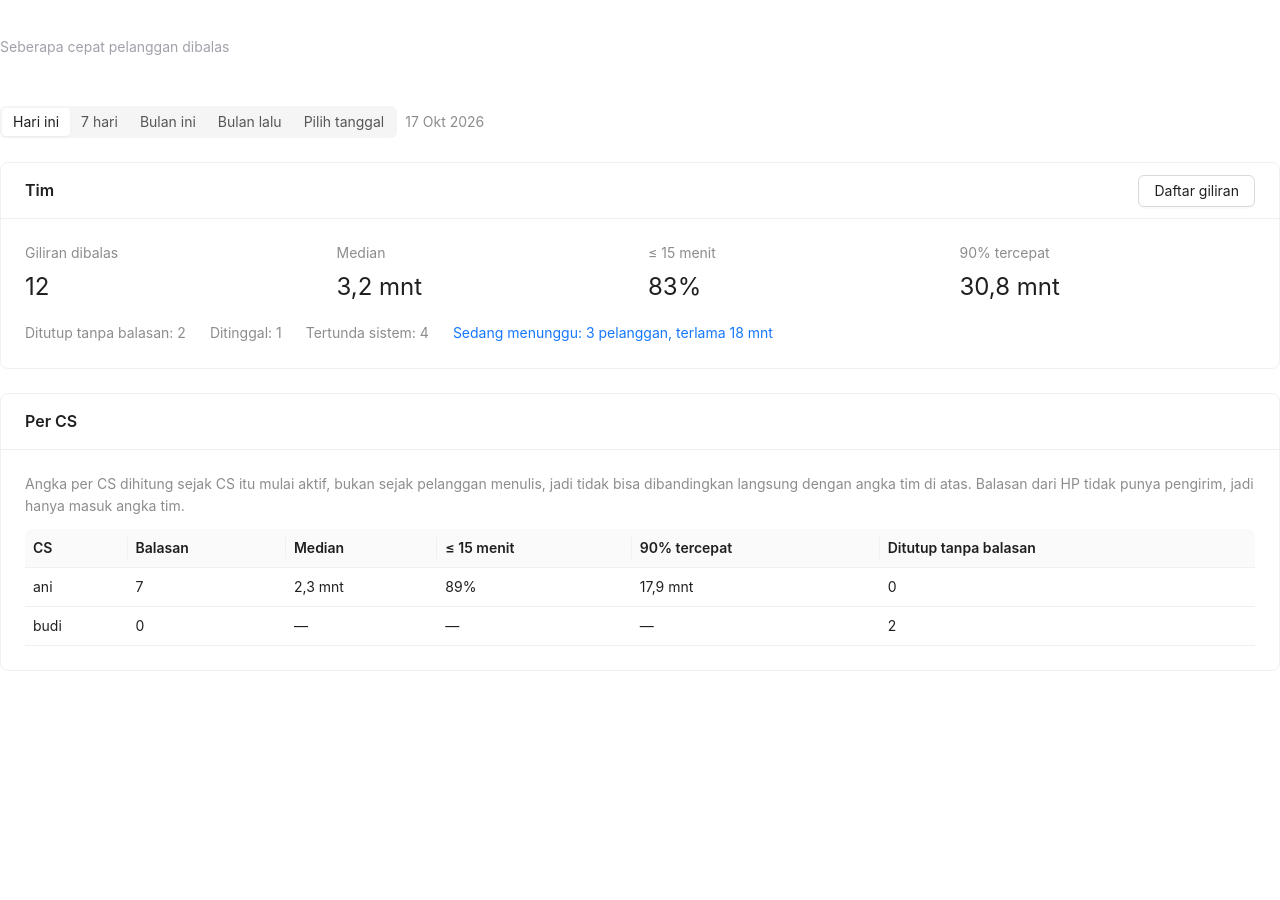
Test case: the CS performance page › lists the whole team's waits when no CS is named
This screenshot has width=1280, height=900.
Click the button "Daftar giliran": (1197,190) [1138,174,1255,206]
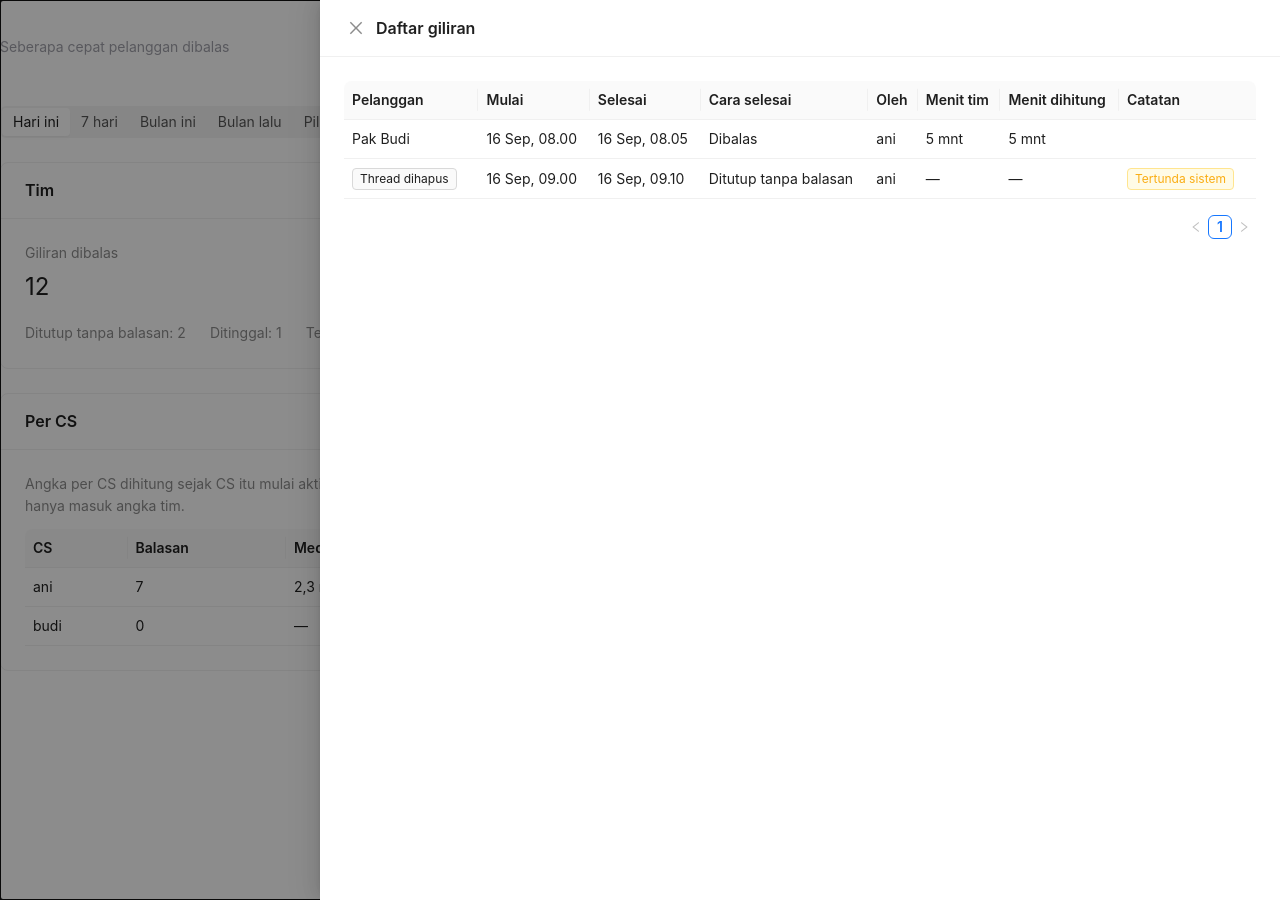
Now the dialog "Daftar giliran" is shown
